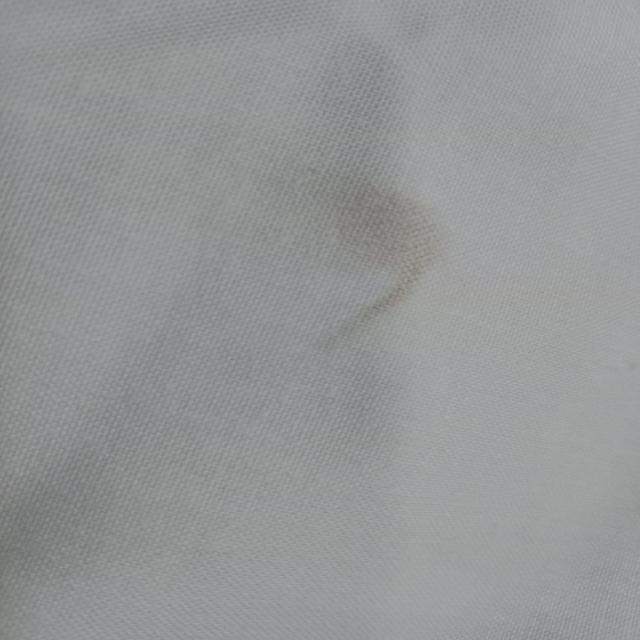stain: (294, 168, 448, 360)
